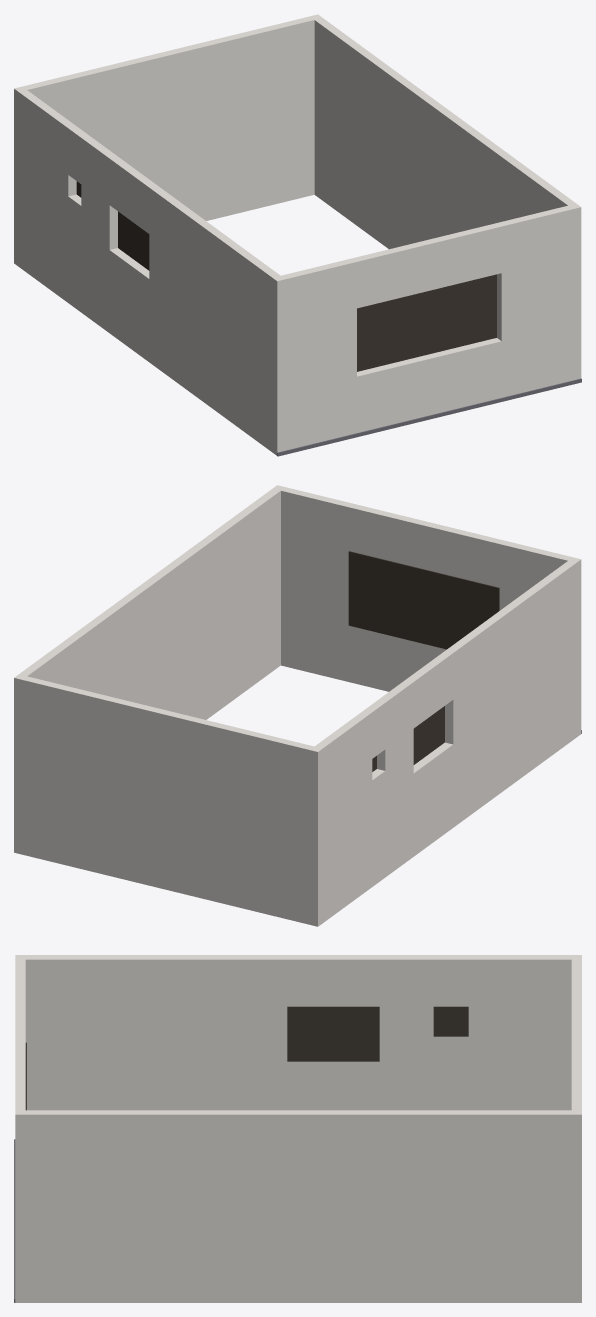
File: SM_Floor_NarrowUpperWindowEndL_White_546_01.gltf
The picture shows the model from 3 angles, top to bottom: view 1: azimuth 30°, elevation 25°; view 2: azimuth 150°, elevation 25°; view 3: azimuth 270°, elevation 25°; orthographic projection. The views are drawn at different scales.
Parts seen in each view (by area): view 1: SM_Floor_NarrowUpperWindowEndL_White_546_01; view 2: SM_Floor_NarrowUpperWindowEndL_White_546_01; view 3: SM_Floor_NarrowUpperWindowEndL_White_546_01.
Boxes of the visible parts, <box> form: SM_Floor_NarrowUpperWindowEndL_White_546_01: <box>14,14,581,456</box>; SM_Floor_NarrowUpperWindowEndL_White_546_01: <box>14,485,581,926</box>; SM_Floor_NarrowUpperWindowEndL_White_546_01: <box>14,955,581,1302</box>.
Bounding box in the file's own units: 5.46 × 3 × 8.21.
1 material, 1 textured.
